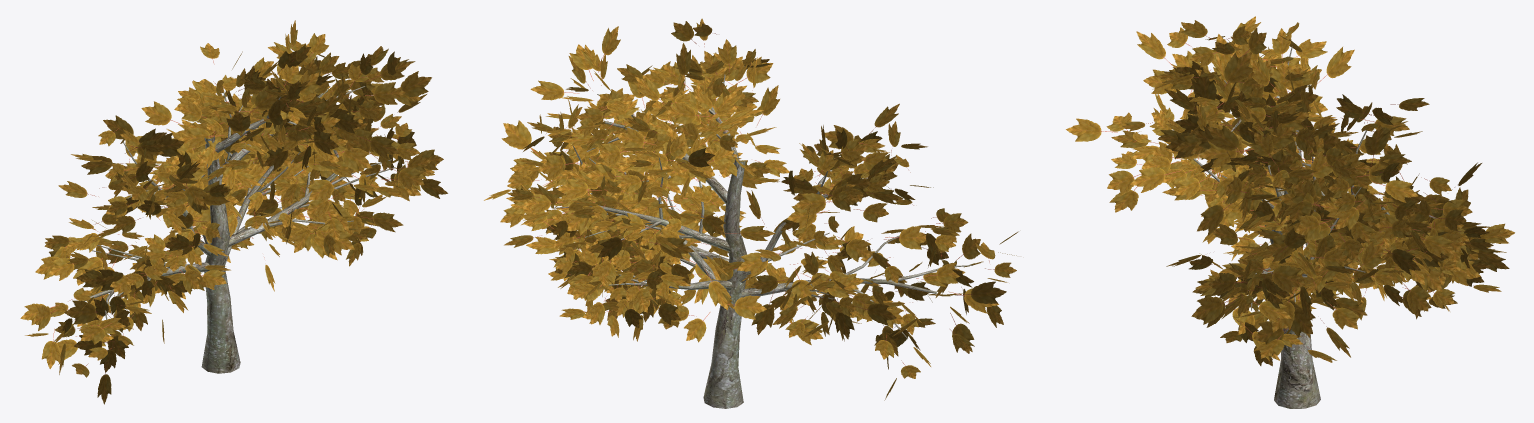
Rendered from tree_maple_gold.glb.
3 views of the same model, side by side, from view 1: azimuth 30°, elevation 25°; view 2: azimuth 150°, elevation 25°; view 3: azimuth 270°, elevation 25° (orthographic). The views are drawn at different scales.
Visible parts, largest first — view 1: tree; view 2: tree; view 3: tree.
Part boxes in pixels (x1,y1,x2,y2): tree: (20,20,447,404); tree: (484,18,1018,408); tree: (1066,16,1514,408).
Size of the model in its own units: 6.55 by 4.84 by 4.87.
Materials: 2 (2 with a texture image).
